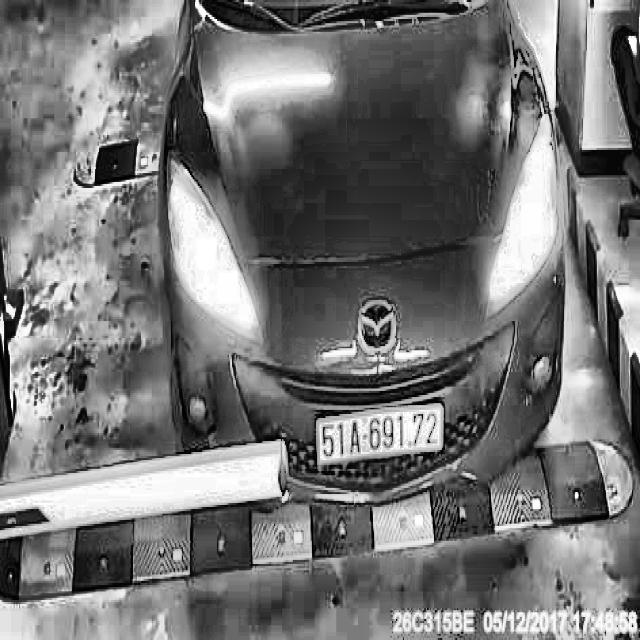plate: (314, 401, 446, 472)
